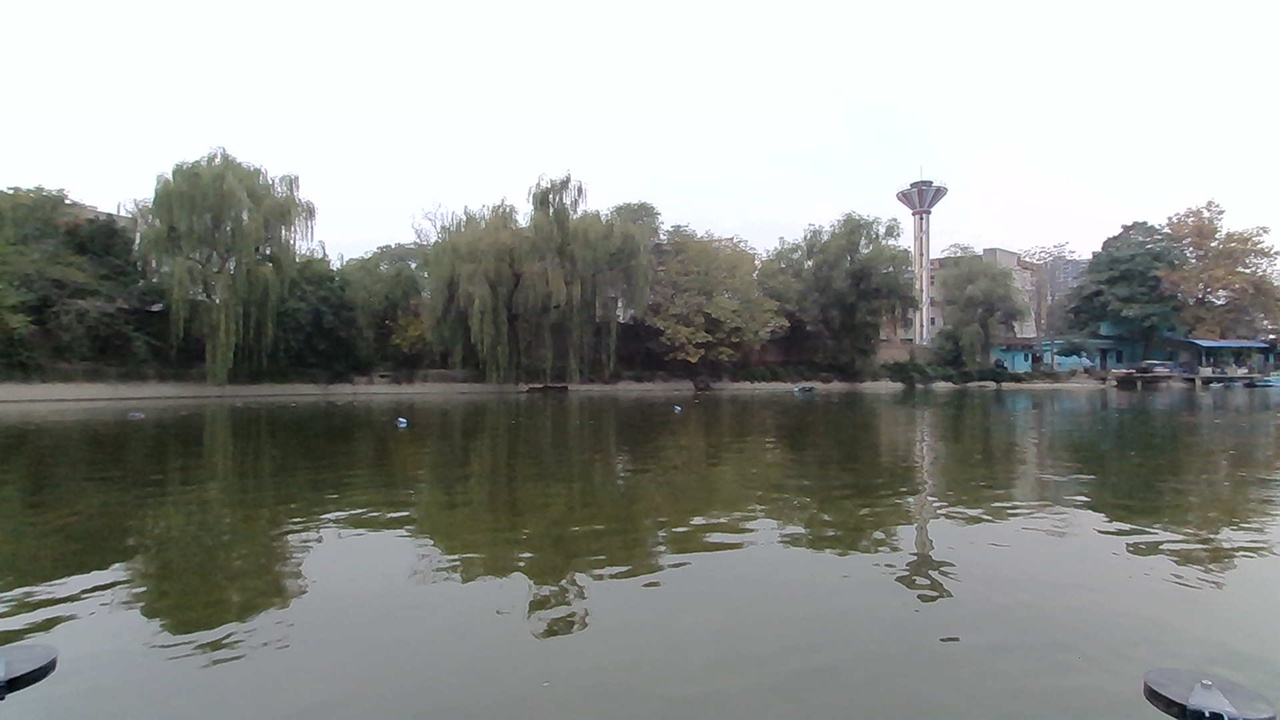bottle: (118, 402, 157, 429), (386, 414, 417, 432)
